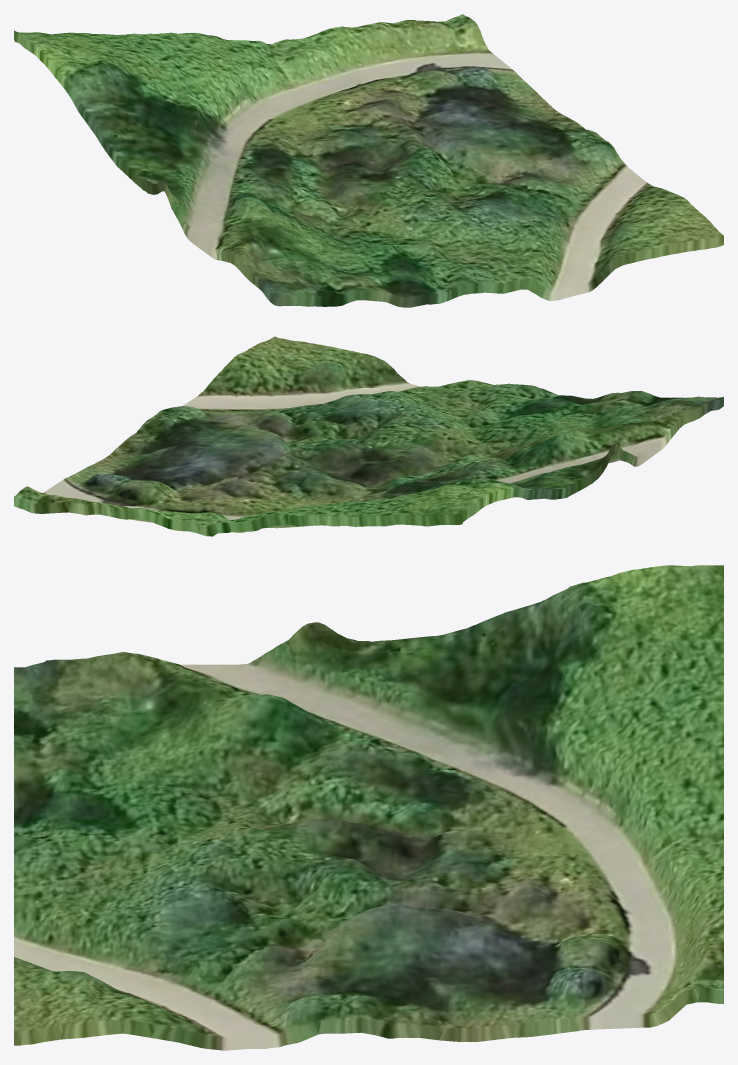
File: z20-167559-405173-h0-yup-uvflip-v3-world.glb
The picture shows the model from 3 angles, top to bottom: view 1: azimuth 30°, elevation 25°; view 2: azimuth 150°, elevation 25°; view 3: azimuth 270°, elevation 25°; orthographic projection. The views are drawn at different scales.
Size of the model in its own units: 30.16 by 9.56 by 30.32.
Materials: 1 (1 with a texture image).
